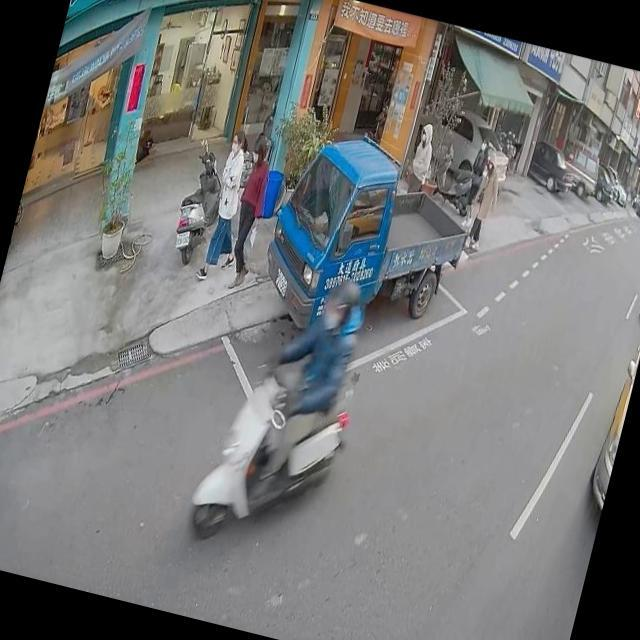person: (228, 245, 378, 530), (216, 125, 284, 284), (197, 122, 259, 278), (461, 148, 508, 254), (458, 136, 496, 225), (403, 119, 440, 193)
